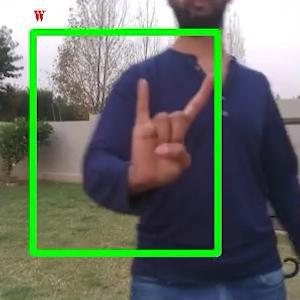takeoff-hand: (121, 45, 229, 195)
